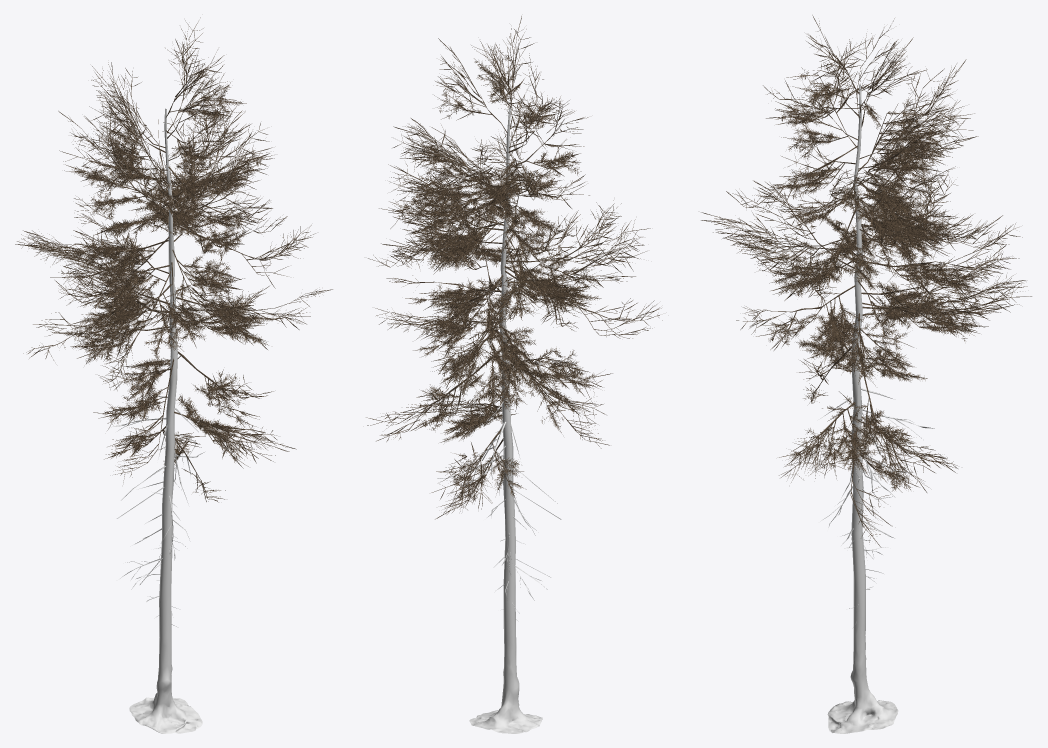
The model's file is Fir_1_LOD1.fbx.
The picture shows the model from 3 angles, left to right: view 1: azimuth 30°, elevation 25°; view 2: azimuth 150°, elevation 25°; view 3: azimuth 270°, elevation 25°; orthographic projection. The views are drawn at different scales.
Visible parts, largest first — view 1: Fir_1_LOD1; view 2: Fir_1_LOD1; view 3: Fir_1_LOD1.
Boxes of the visible parts, <box> form: Fir_1_LOD1: <box>15,17,332,733</box>; Fir_1_LOD1: <box>366,16,662,733</box>; Fir_1_LOD1: <box>701,15,1031,733</box>.
Bounding box in the file's own units: 552 × 1403 × 598.
